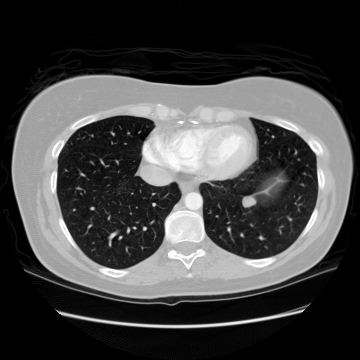nodule: (242, 195, 254, 207)
